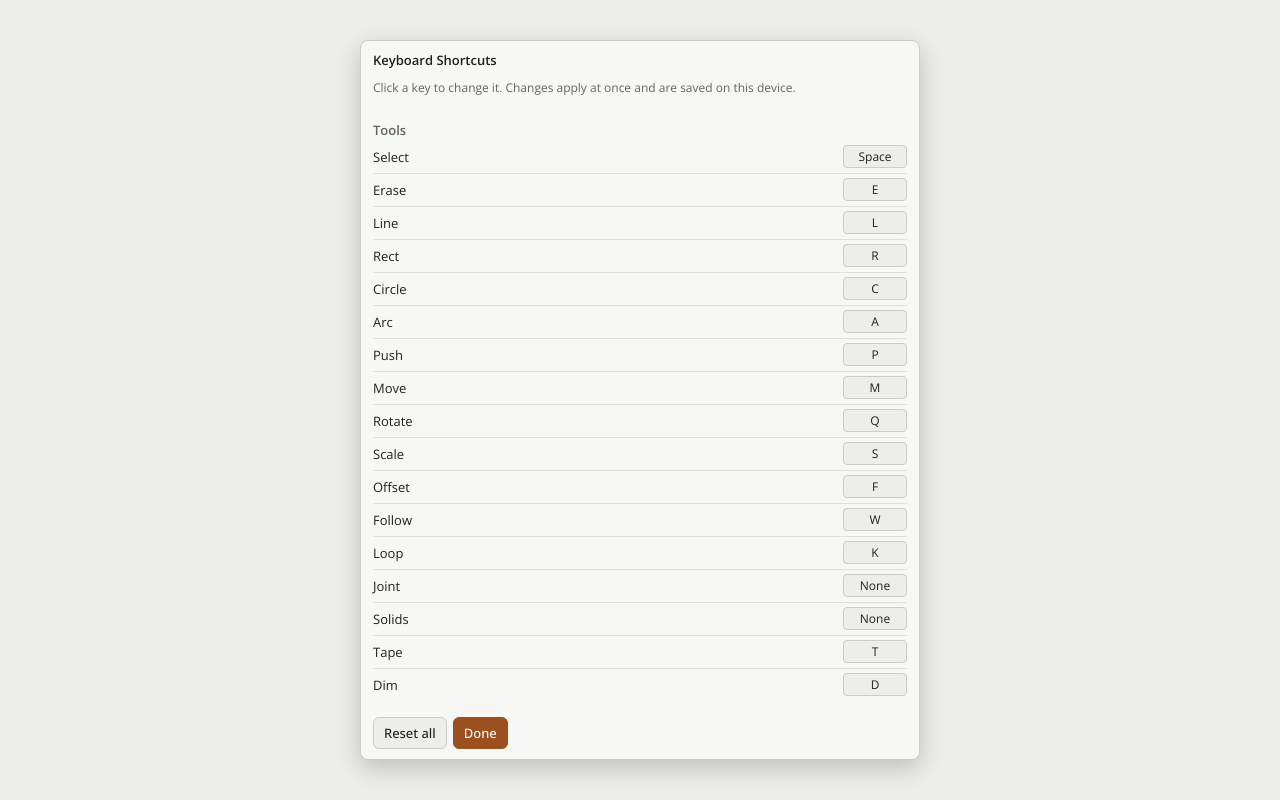
Test: the Keyboard Shortcuts page › asks before taking a key from another action
The width and height of the screenshot is (1280, 800).
Later steps or results of the test are not shown.
Click the button "L" at (875,223), box [843,211,907,234]
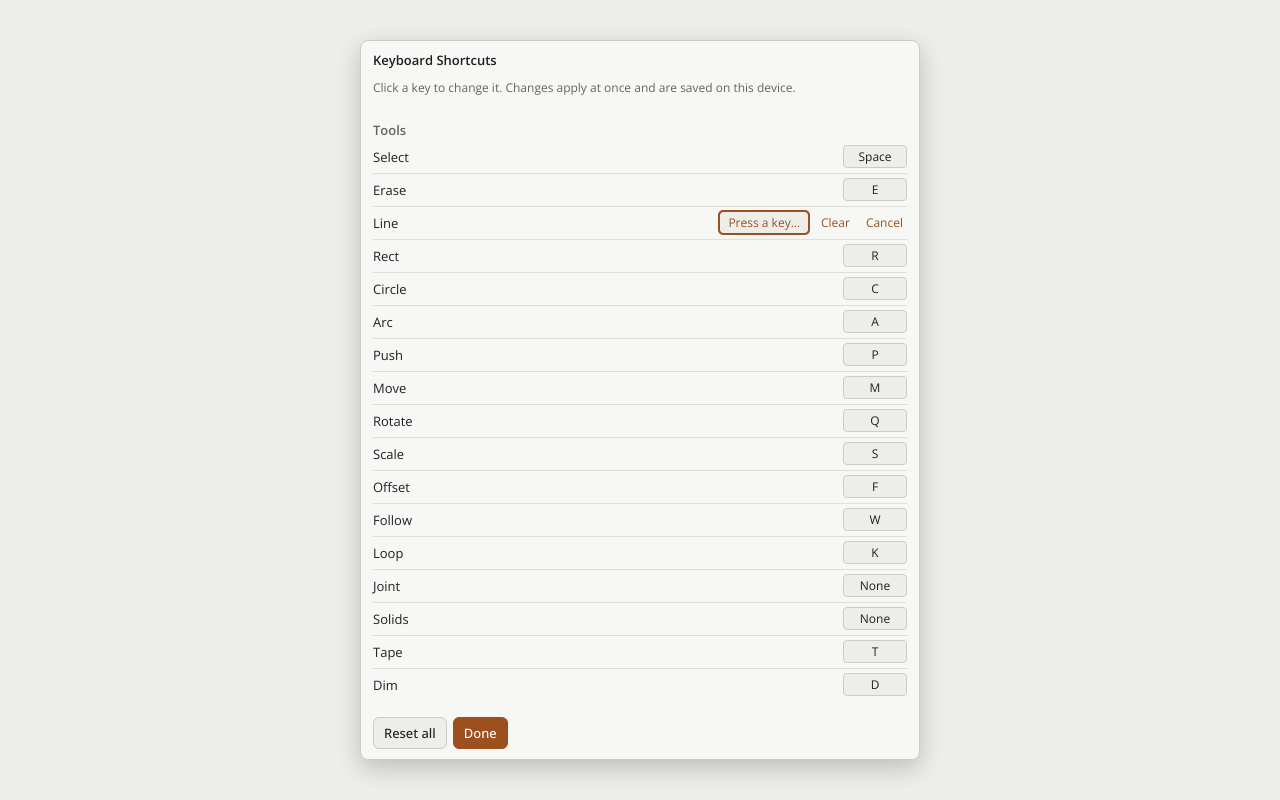
Press r in the button "Press a key…", box [719,211,809,234]
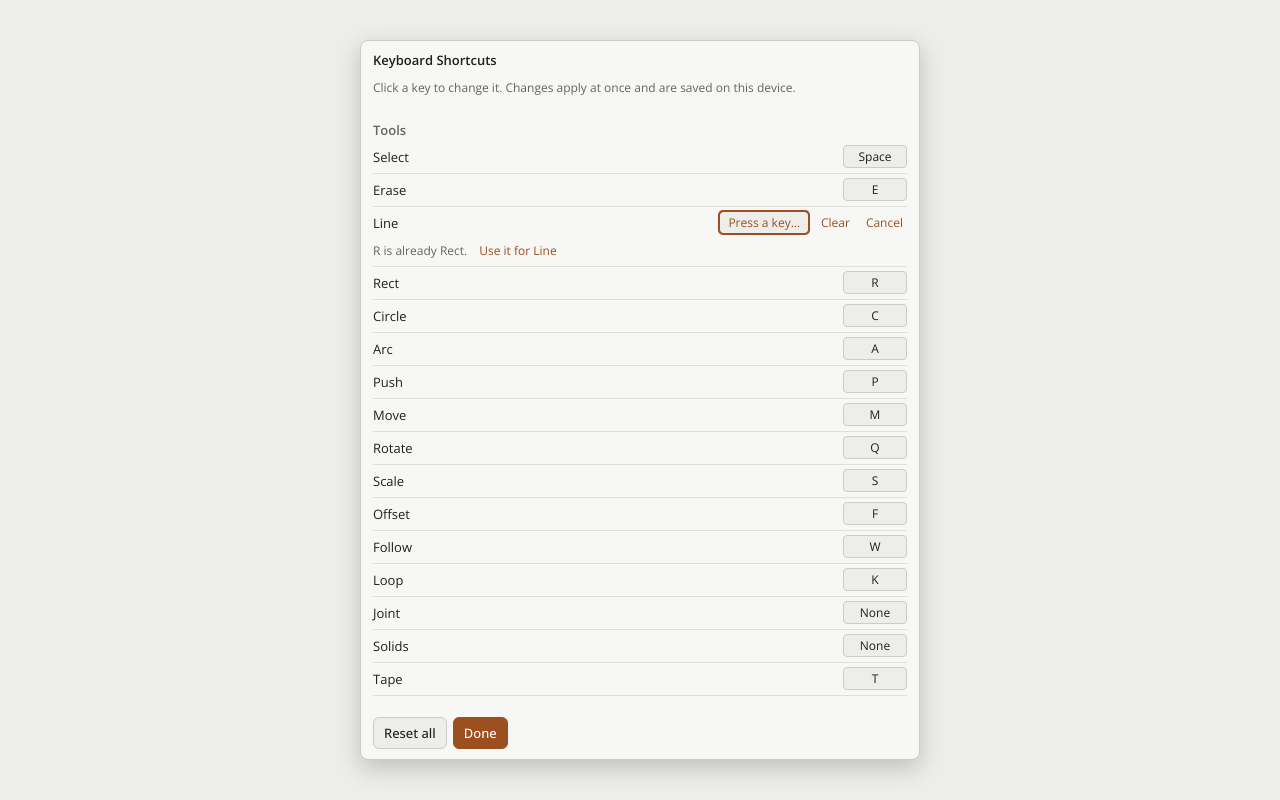
Result: the message shows "already Rect" at [373,241,561,260]
